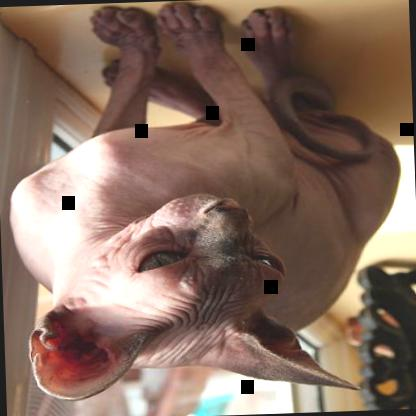cat: (0, 0, 411, 403)
